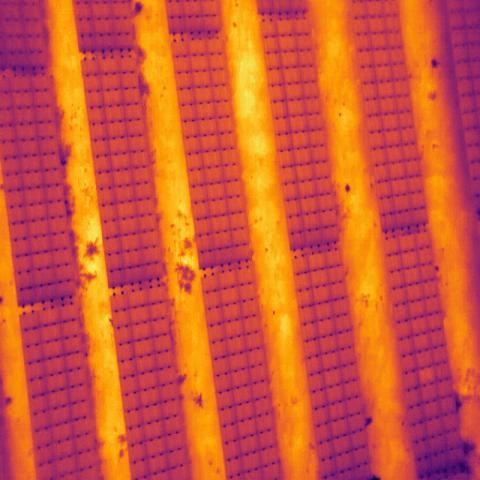fault: (418, 366, 437, 386)
